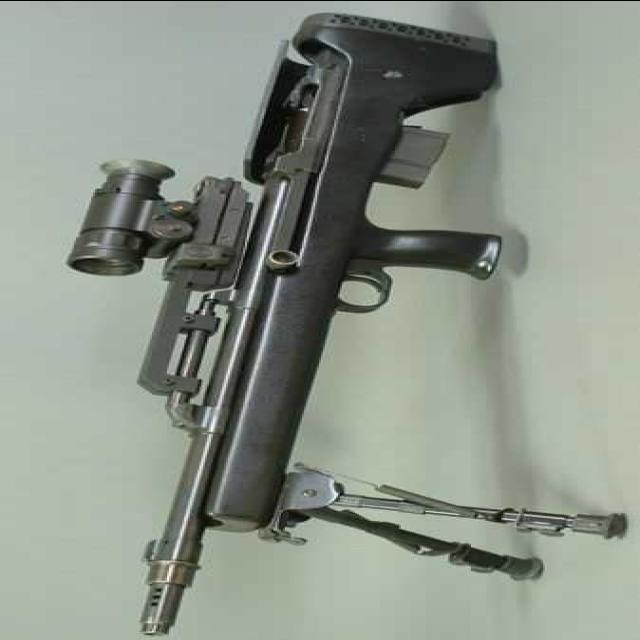heavyweapon: (42, 9, 592, 635)
